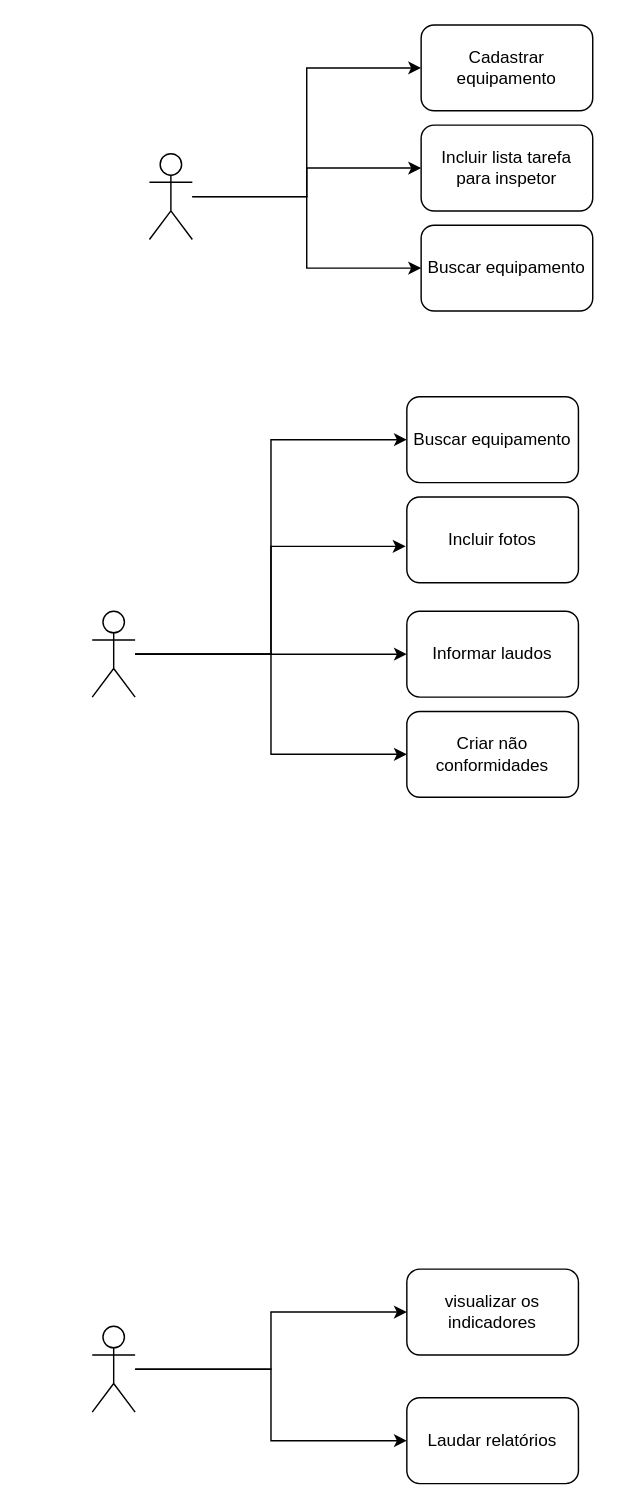
Some shapes in this 618 by 1509 pixel diagram are drawn without their labels. The shapes that lost their labels are listed below. From the top down, each one's centre as x and y in pixels, then its label:
[170,196]: Supervisor
[113,653]: Inspetor
[113,1368]: Gerador de indicadores
